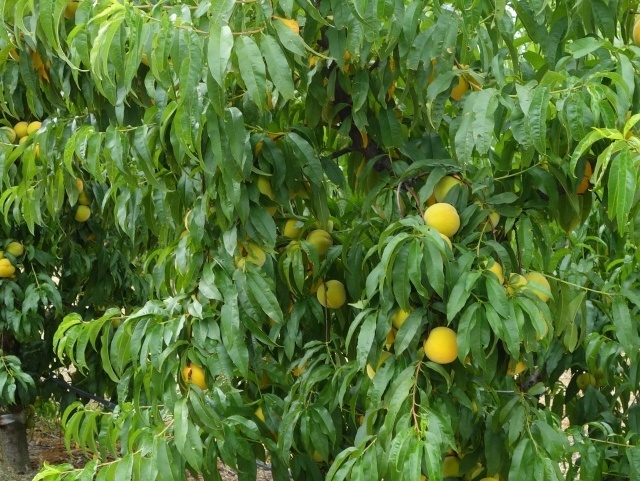peach: (422, 322, 463, 367), (171, 351, 210, 397), (421, 199, 462, 241), (427, 167, 467, 208), (312, 275, 350, 312), (520, 267, 555, 306), (303, 225, 337, 256), (279, 217, 306, 245), (572, 369, 598, 395)
